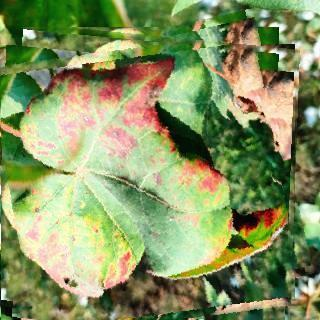blight: (1, 21, 300, 320)
